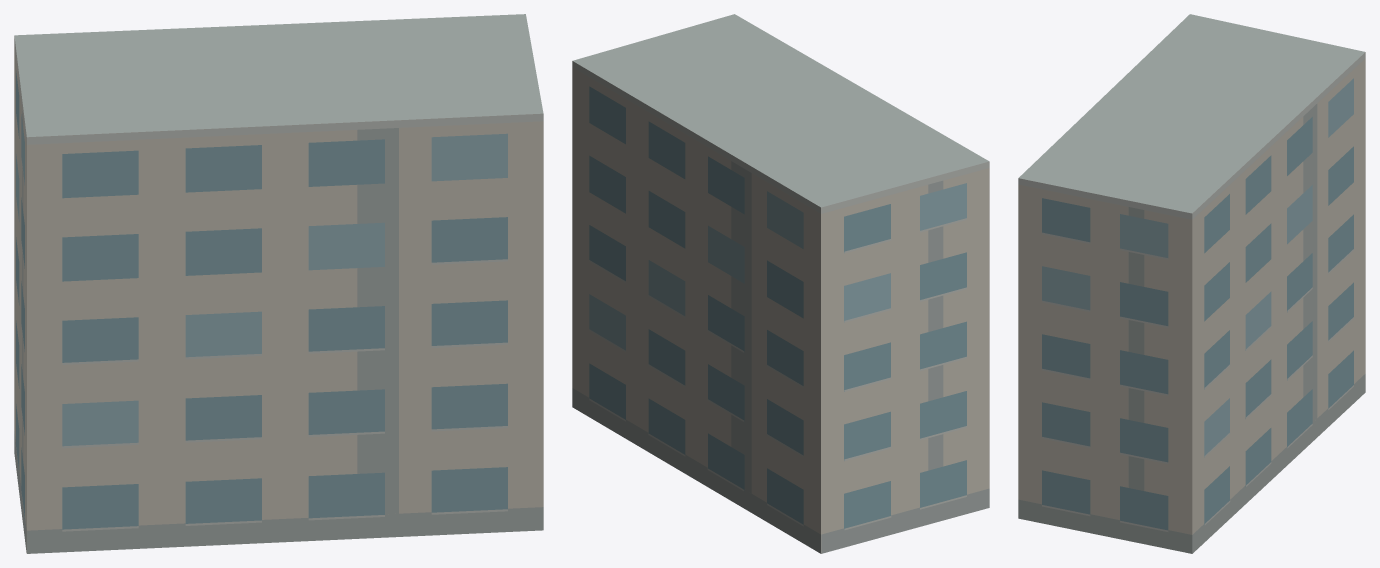
The model's file is survey-upis-32728742.glb.
The picture shows the model from 3 angles, left to right: view 1: azimuth 30°, elevation 25°; view 2: azimuth 150°, elevation 25°; view 3: azimuth 270°, elevation 25°; orthographic projection. The views are drawn at different scales.
Parts seen in each view (by area): view 1: survey-upis-32728742.tmp; view 2: survey-upis-32728742.tmp; view 3: survey-upis-32728742.tmp.
Part boxes in pixels (left/top/right/bottom): survey-upis-32728742.tmp: left=14, top=14, right=543, bottom=553; survey-upis-32728742.tmp: left=572, top=14, right=989, bottom=553; survey-upis-32728742.tmp: left=1018, top=14, right=1365, bottom=553.
Bounding box in the file's own units: 16.6 × 13.2 × 12.22.
